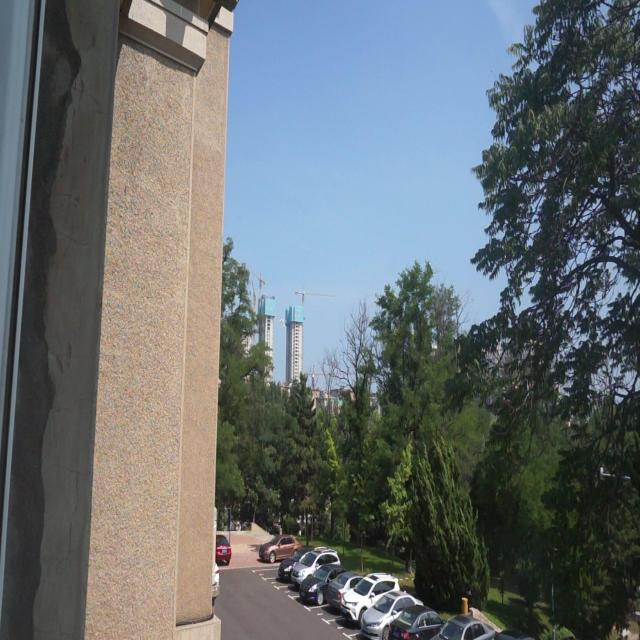drone: (277, 310, 286, 331)
